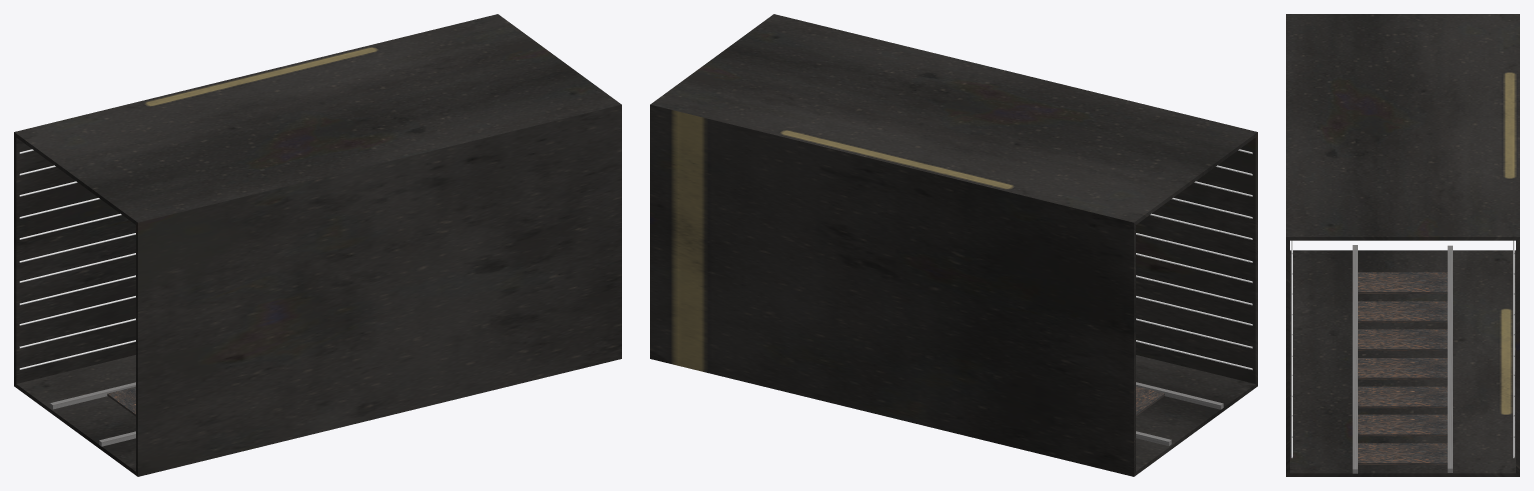
The model's file is ContainerRoad.fbx.
The picture shows the model from 3 angles, left to right: view 1: azimuth 30°, elevation 25°; view 2: azimuth 150°, elevation 25°; view 3: azimuth 270°, elevation 25°; orthographic projection. The views are drawn at different scales.
Visible parts, largest first — view 1: Cube.001, Cylinder.001, Cube.004; view 2: Cube.001, Cylinder.001, Cube.004; view 3: Cube.001, Cube.005, Cube.004, Cylinder.001.
Boxes of the visible parts, x1,y1,x2,y2 form: Cube.001: (14, 14, 621, 476); Cylinder.001: (19, 149, 135, 369); Cube.004: (50, 382, 135, 446); Cube.001: (650, 14, 1257, 476); Cylinder.001: (1136, 149, 1252, 369); Cube.004: (1136, 382, 1223, 445); Cube.001: (1286, 14, 1519, 476); Cube.005: (1358, 272, 1447, 464); Cube.004: (1352, 245, 1452, 473); Cylinder.001: (1291, 240, 1514, 458).
Size of the model in its own units: 2365 by 1180 by 1042.
